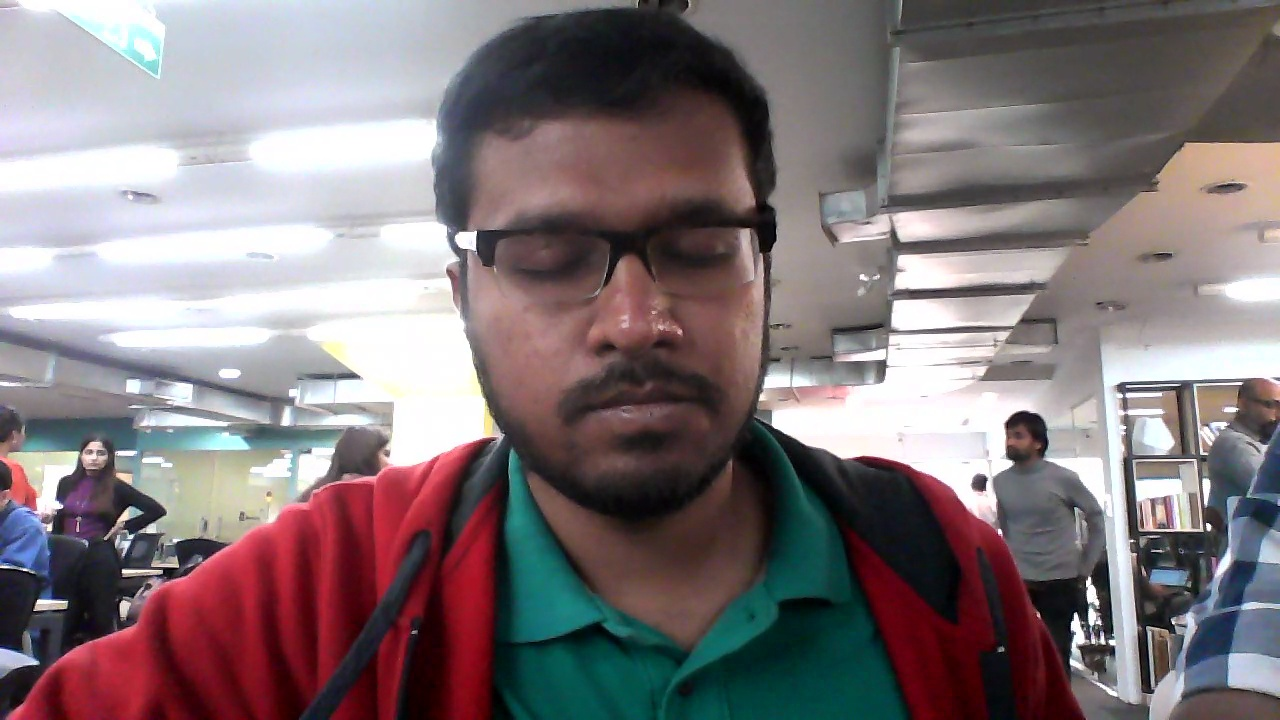closed: (439, 13, 783, 507)
